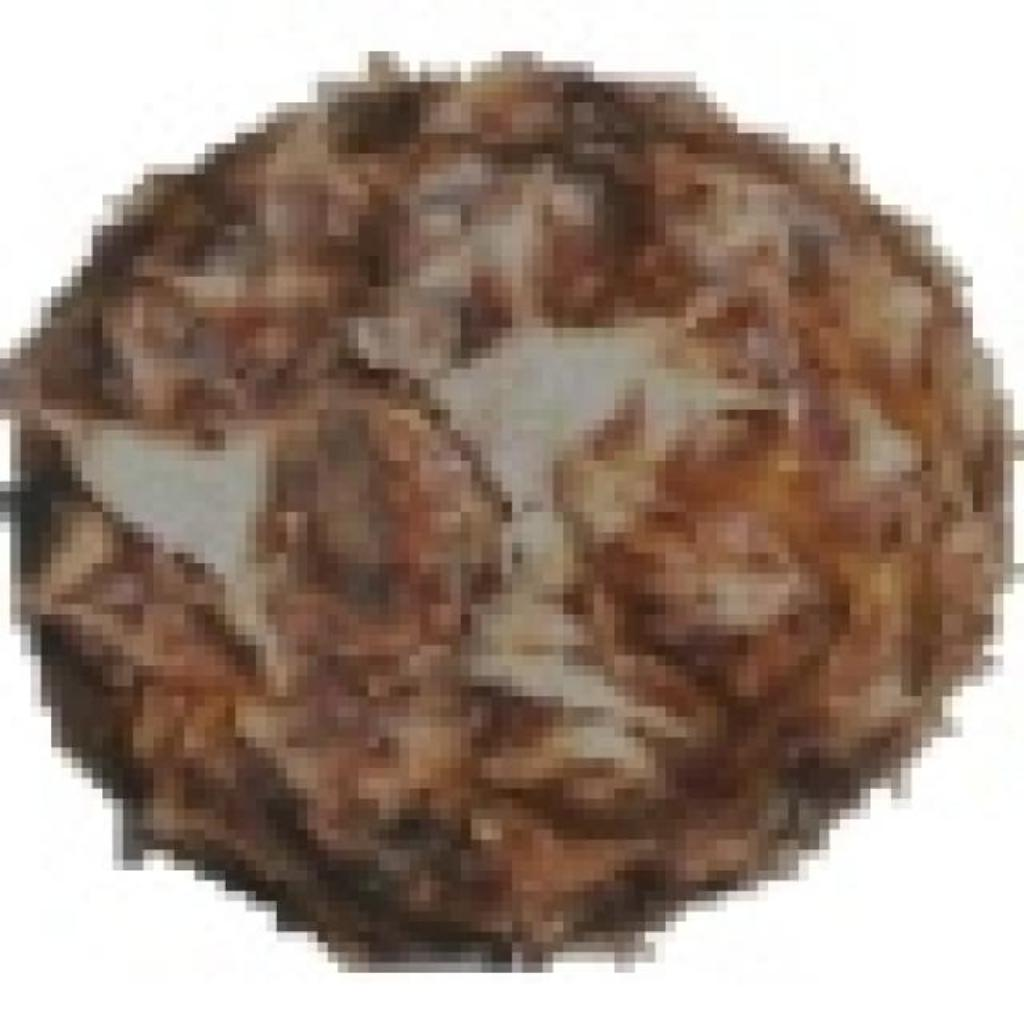pineapple: (41, 51, 1014, 942)
